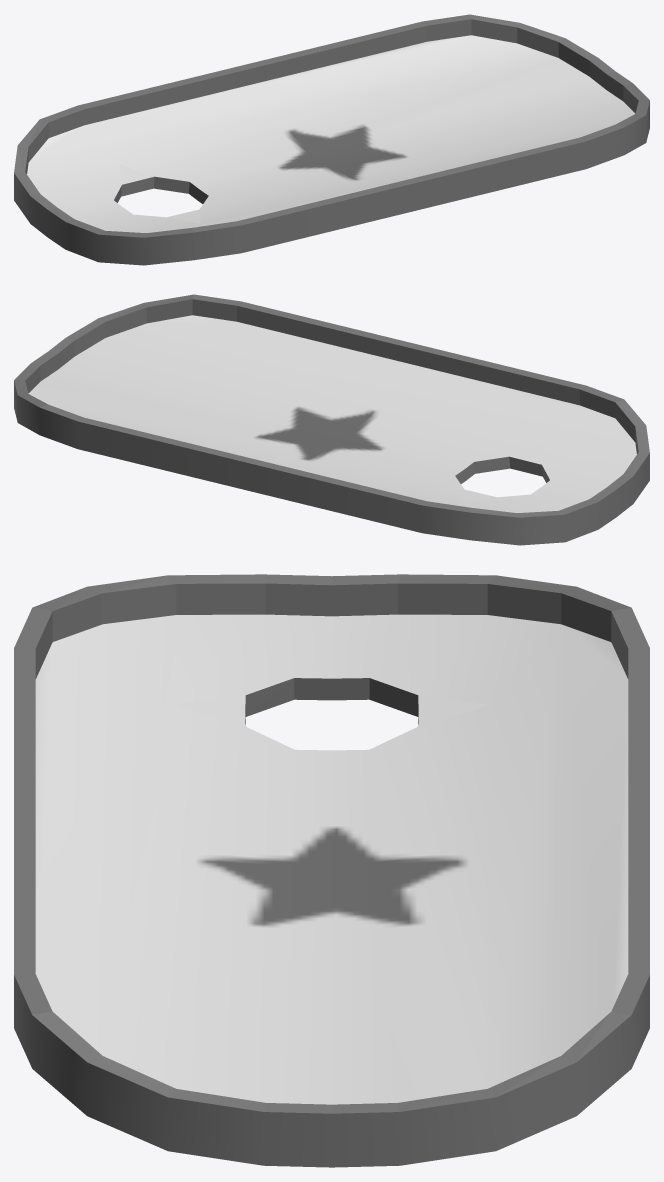
Rendered from SolderBadge_2.fbx.
3 views of the same model, one above another, from view 1: azimuth 30°, elevation 25°; view 2: azimuth 150°, elevation 25°; view 3: azimuth 270°, elevation 25° (orthographic). The views are drawn at different scales.
Visible parts, largest first — view 1: Box001; view 2: Box001; view 3: Box001.
Part boxes in pixels (x1,y1,x2,y2): Box001: (14, 14, 649, 265); Box001: (14, 294, 649, 545); Box001: (14, 574, 649, 1167).
Bounding box in the file's own units: 59.06 × 4.48 × 29.53.
